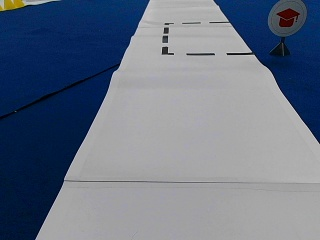school: (266, 2, 307, 36)
